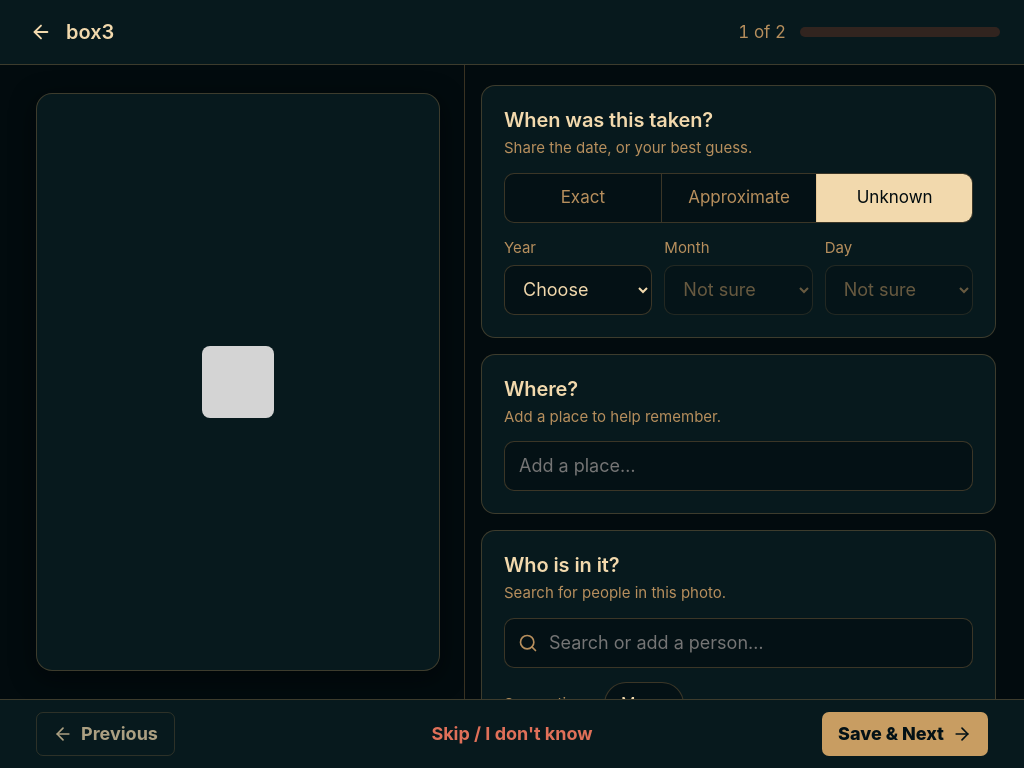
Test: ReviewPage › copies the previous photo's answers with 'Same as the last one'
Expected: the text "1 of 2" is shown, [738,20,786,44]
Select "1962" in the dropdown labelled "Year" at (578, 290), box [504,264,652,314]
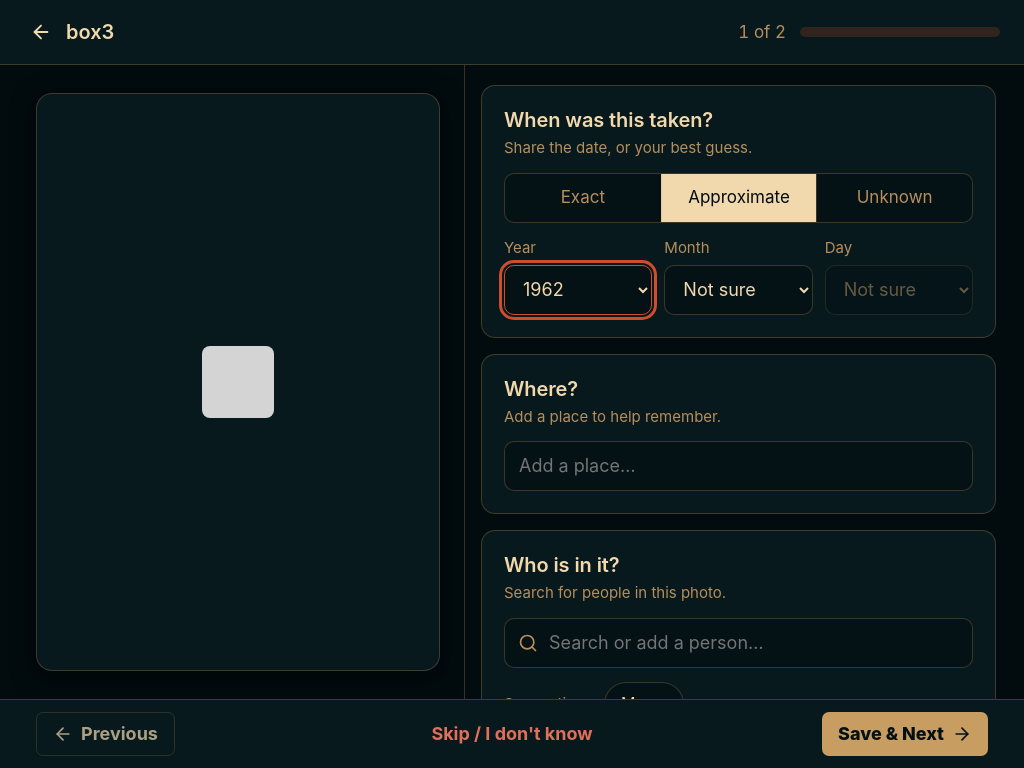
Select "July" in the dropdown labelled "Month" at (738, 290), box [664,264,813,314]
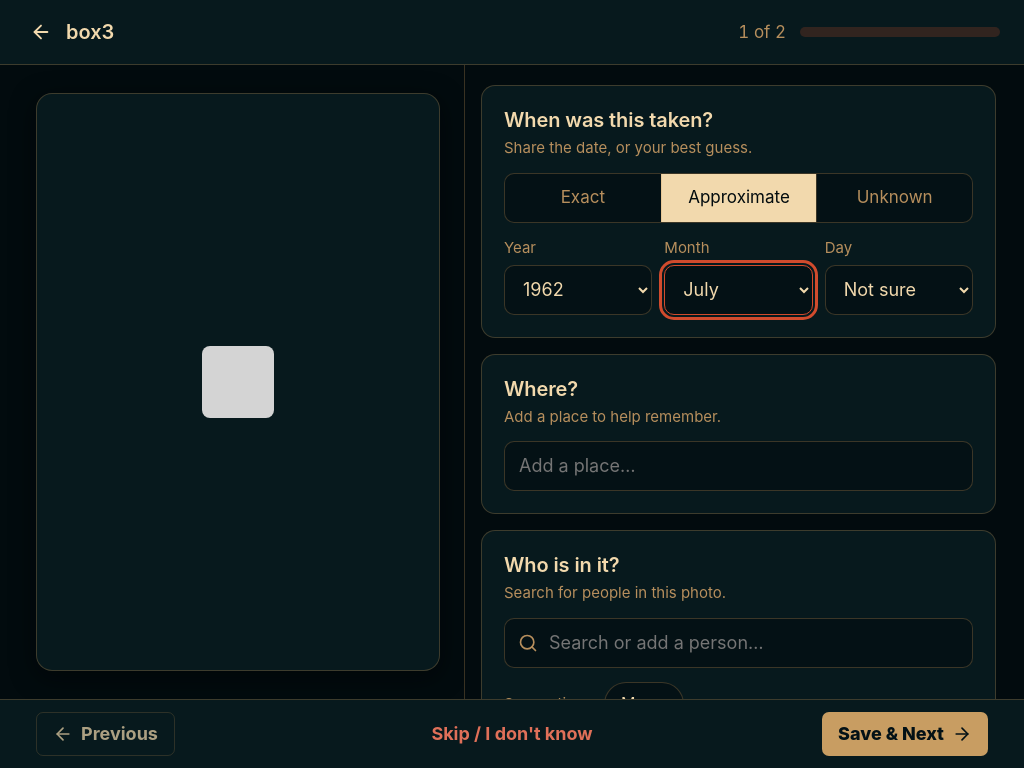
Type "Ratomka" into the field named "Where?" at (738, 466), box [504,441,973,491]
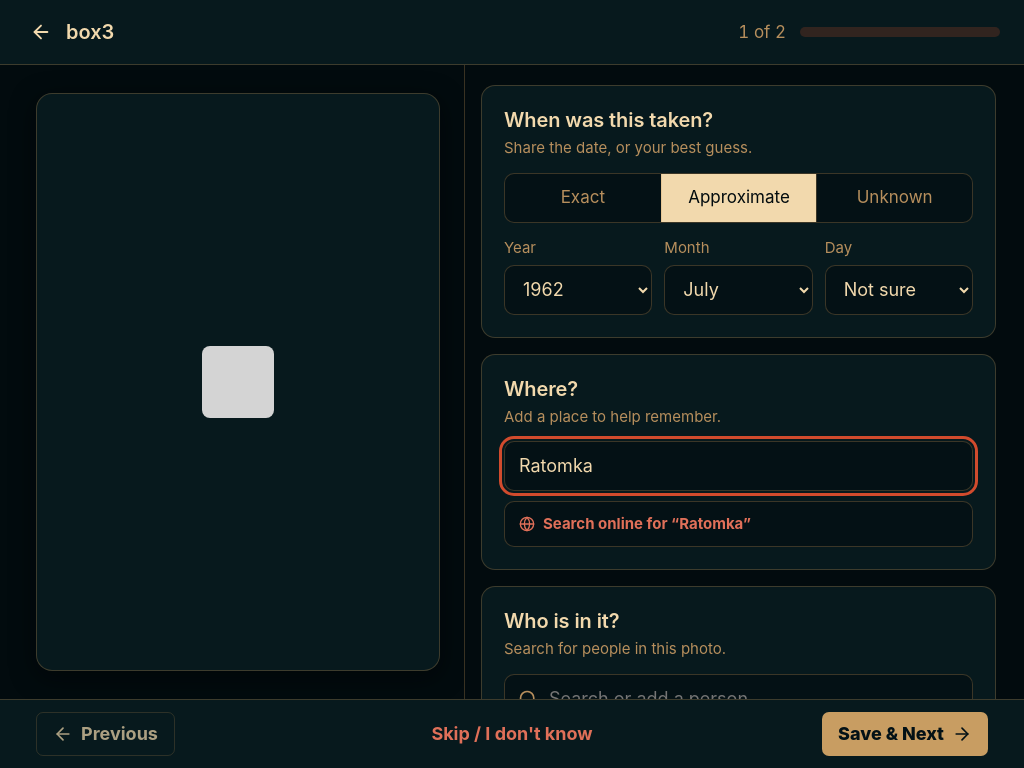
Click the button "Save & Next" at (905, 734), box [822,712,988,756]
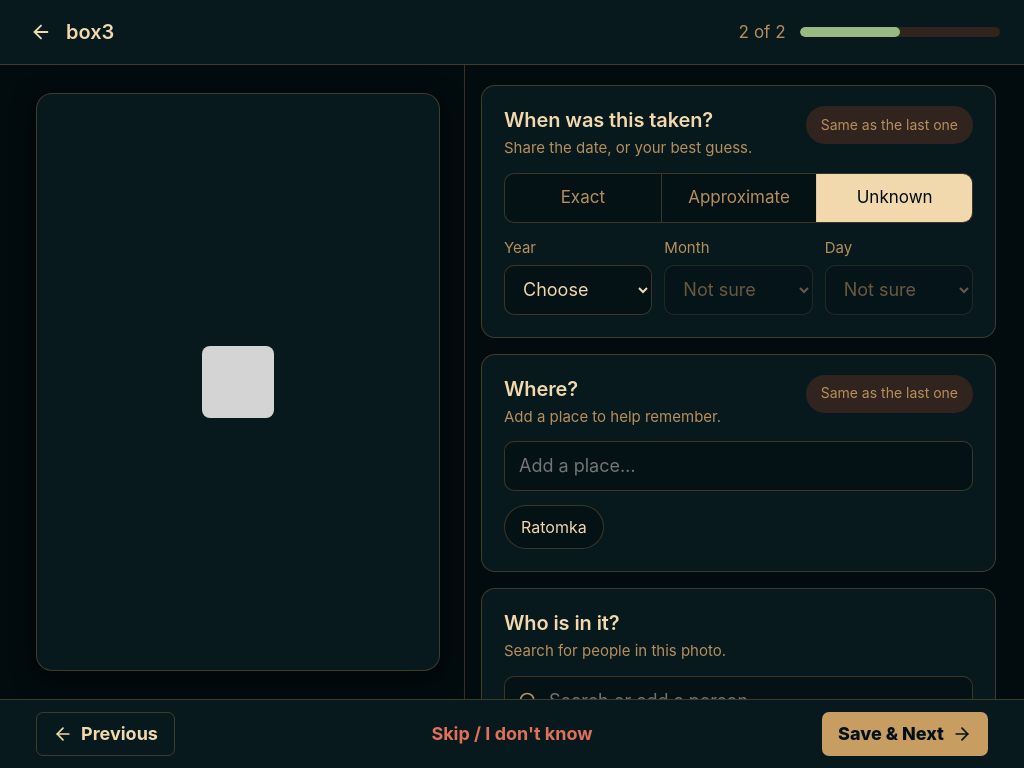
Result: the text "2 of 2" is shown at [738,20,786,44]
Result: the number of buttons "Same as the last one" is 2
Click the button "Same as the last one" next to "Share the date, or your best guess." at (889, 125), box [806,106,973,144]
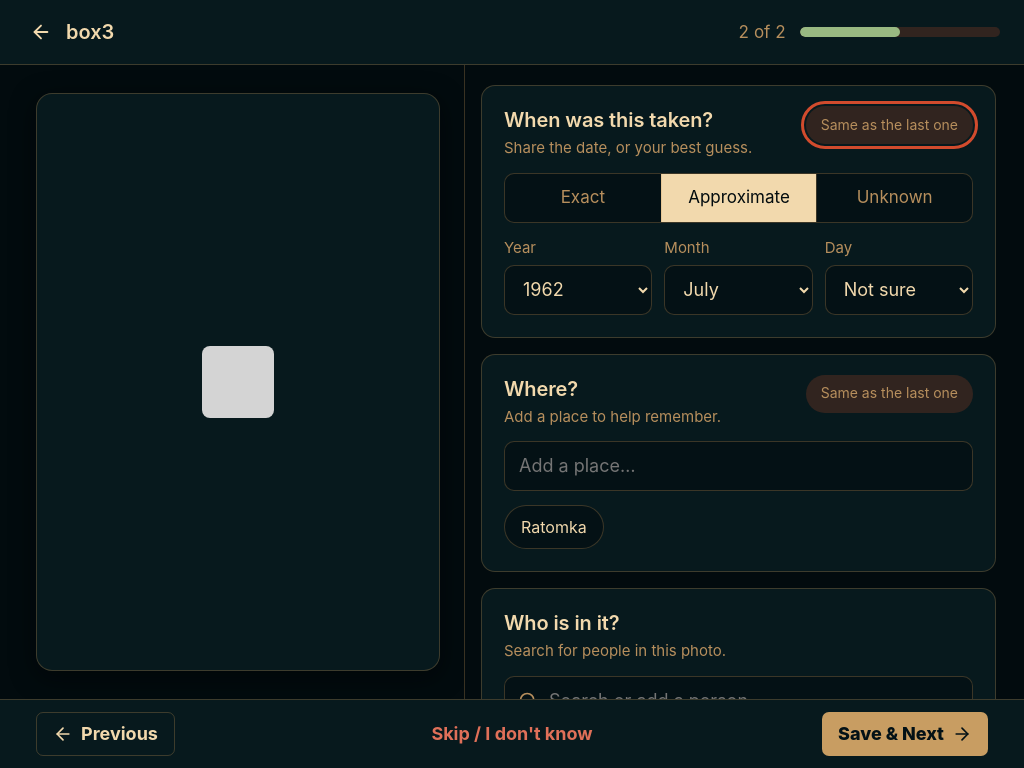
Click the button "Same as the last one" next to "Add a place to help remember." at (889, 394), box [806,374,973,412]
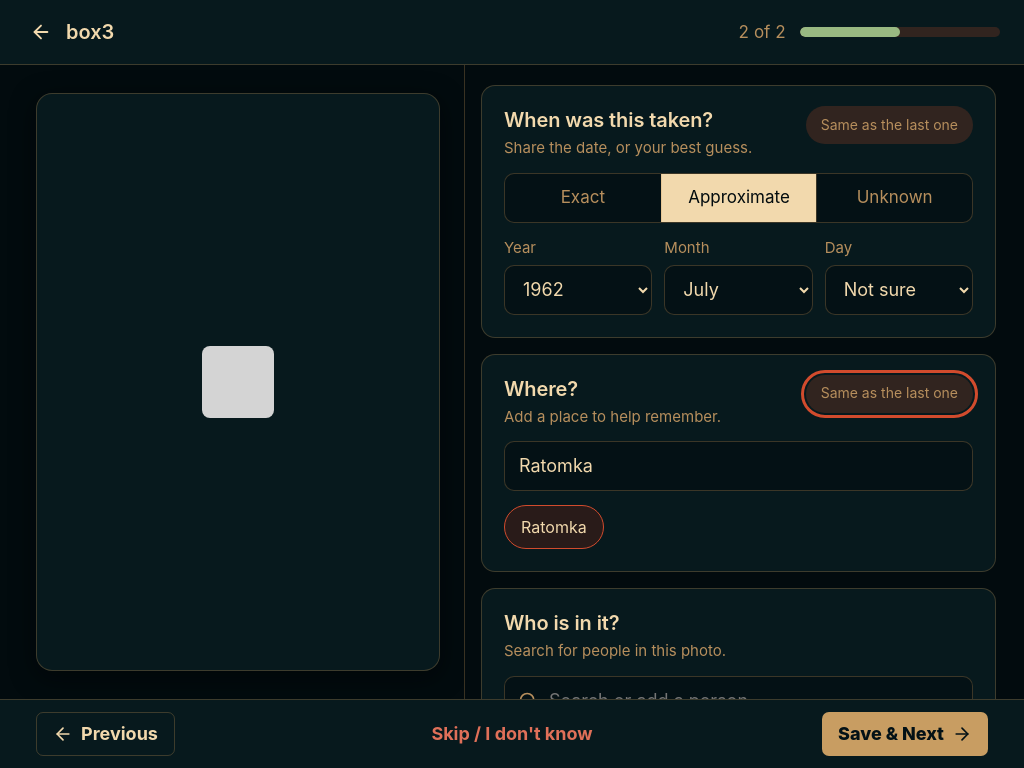
Result: the dropdown labelled "Year" shows "1962" at [504,264,652,314]
Result: the dropdown labelled "Month" shows "July" at [664,264,813,314]
Result: the field named "Where?" holds "Ratomka" at [504,441,973,491]
